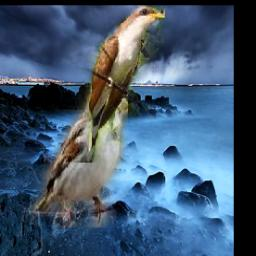Cuckoo: (72, 5, 166, 163)
Sparrow: (22, 83, 128, 228)
